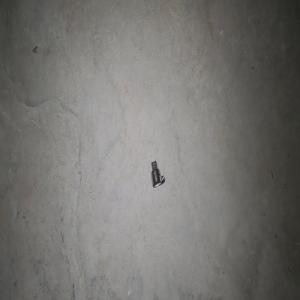MetalPart: (150, 159, 165, 187)
